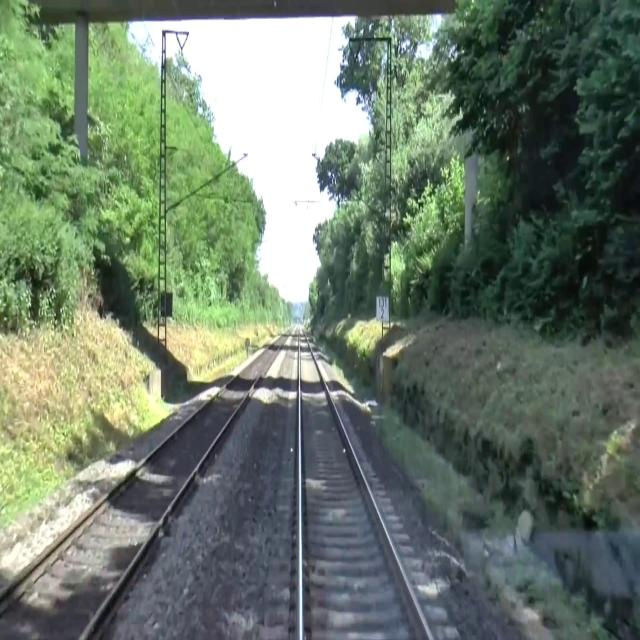rail-track: (0, 335, 285, 639), (300, 328, 428, 639)
